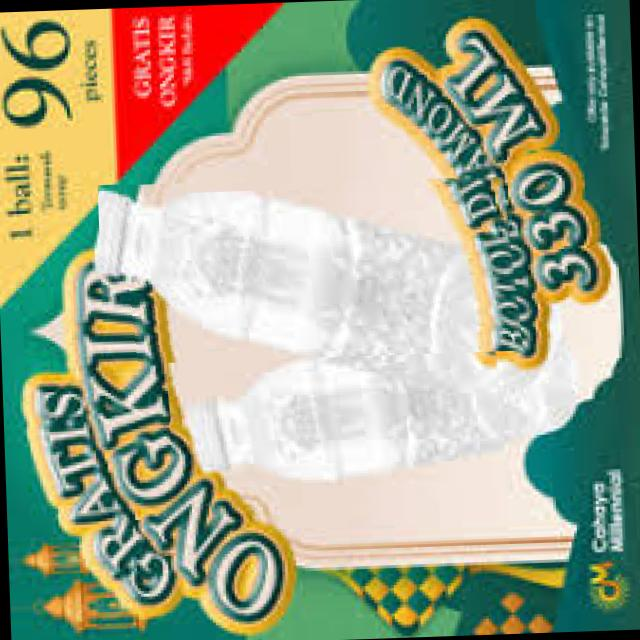plastic bottle: (97, 169, 523, 364), (167, 338, 508, 502)
